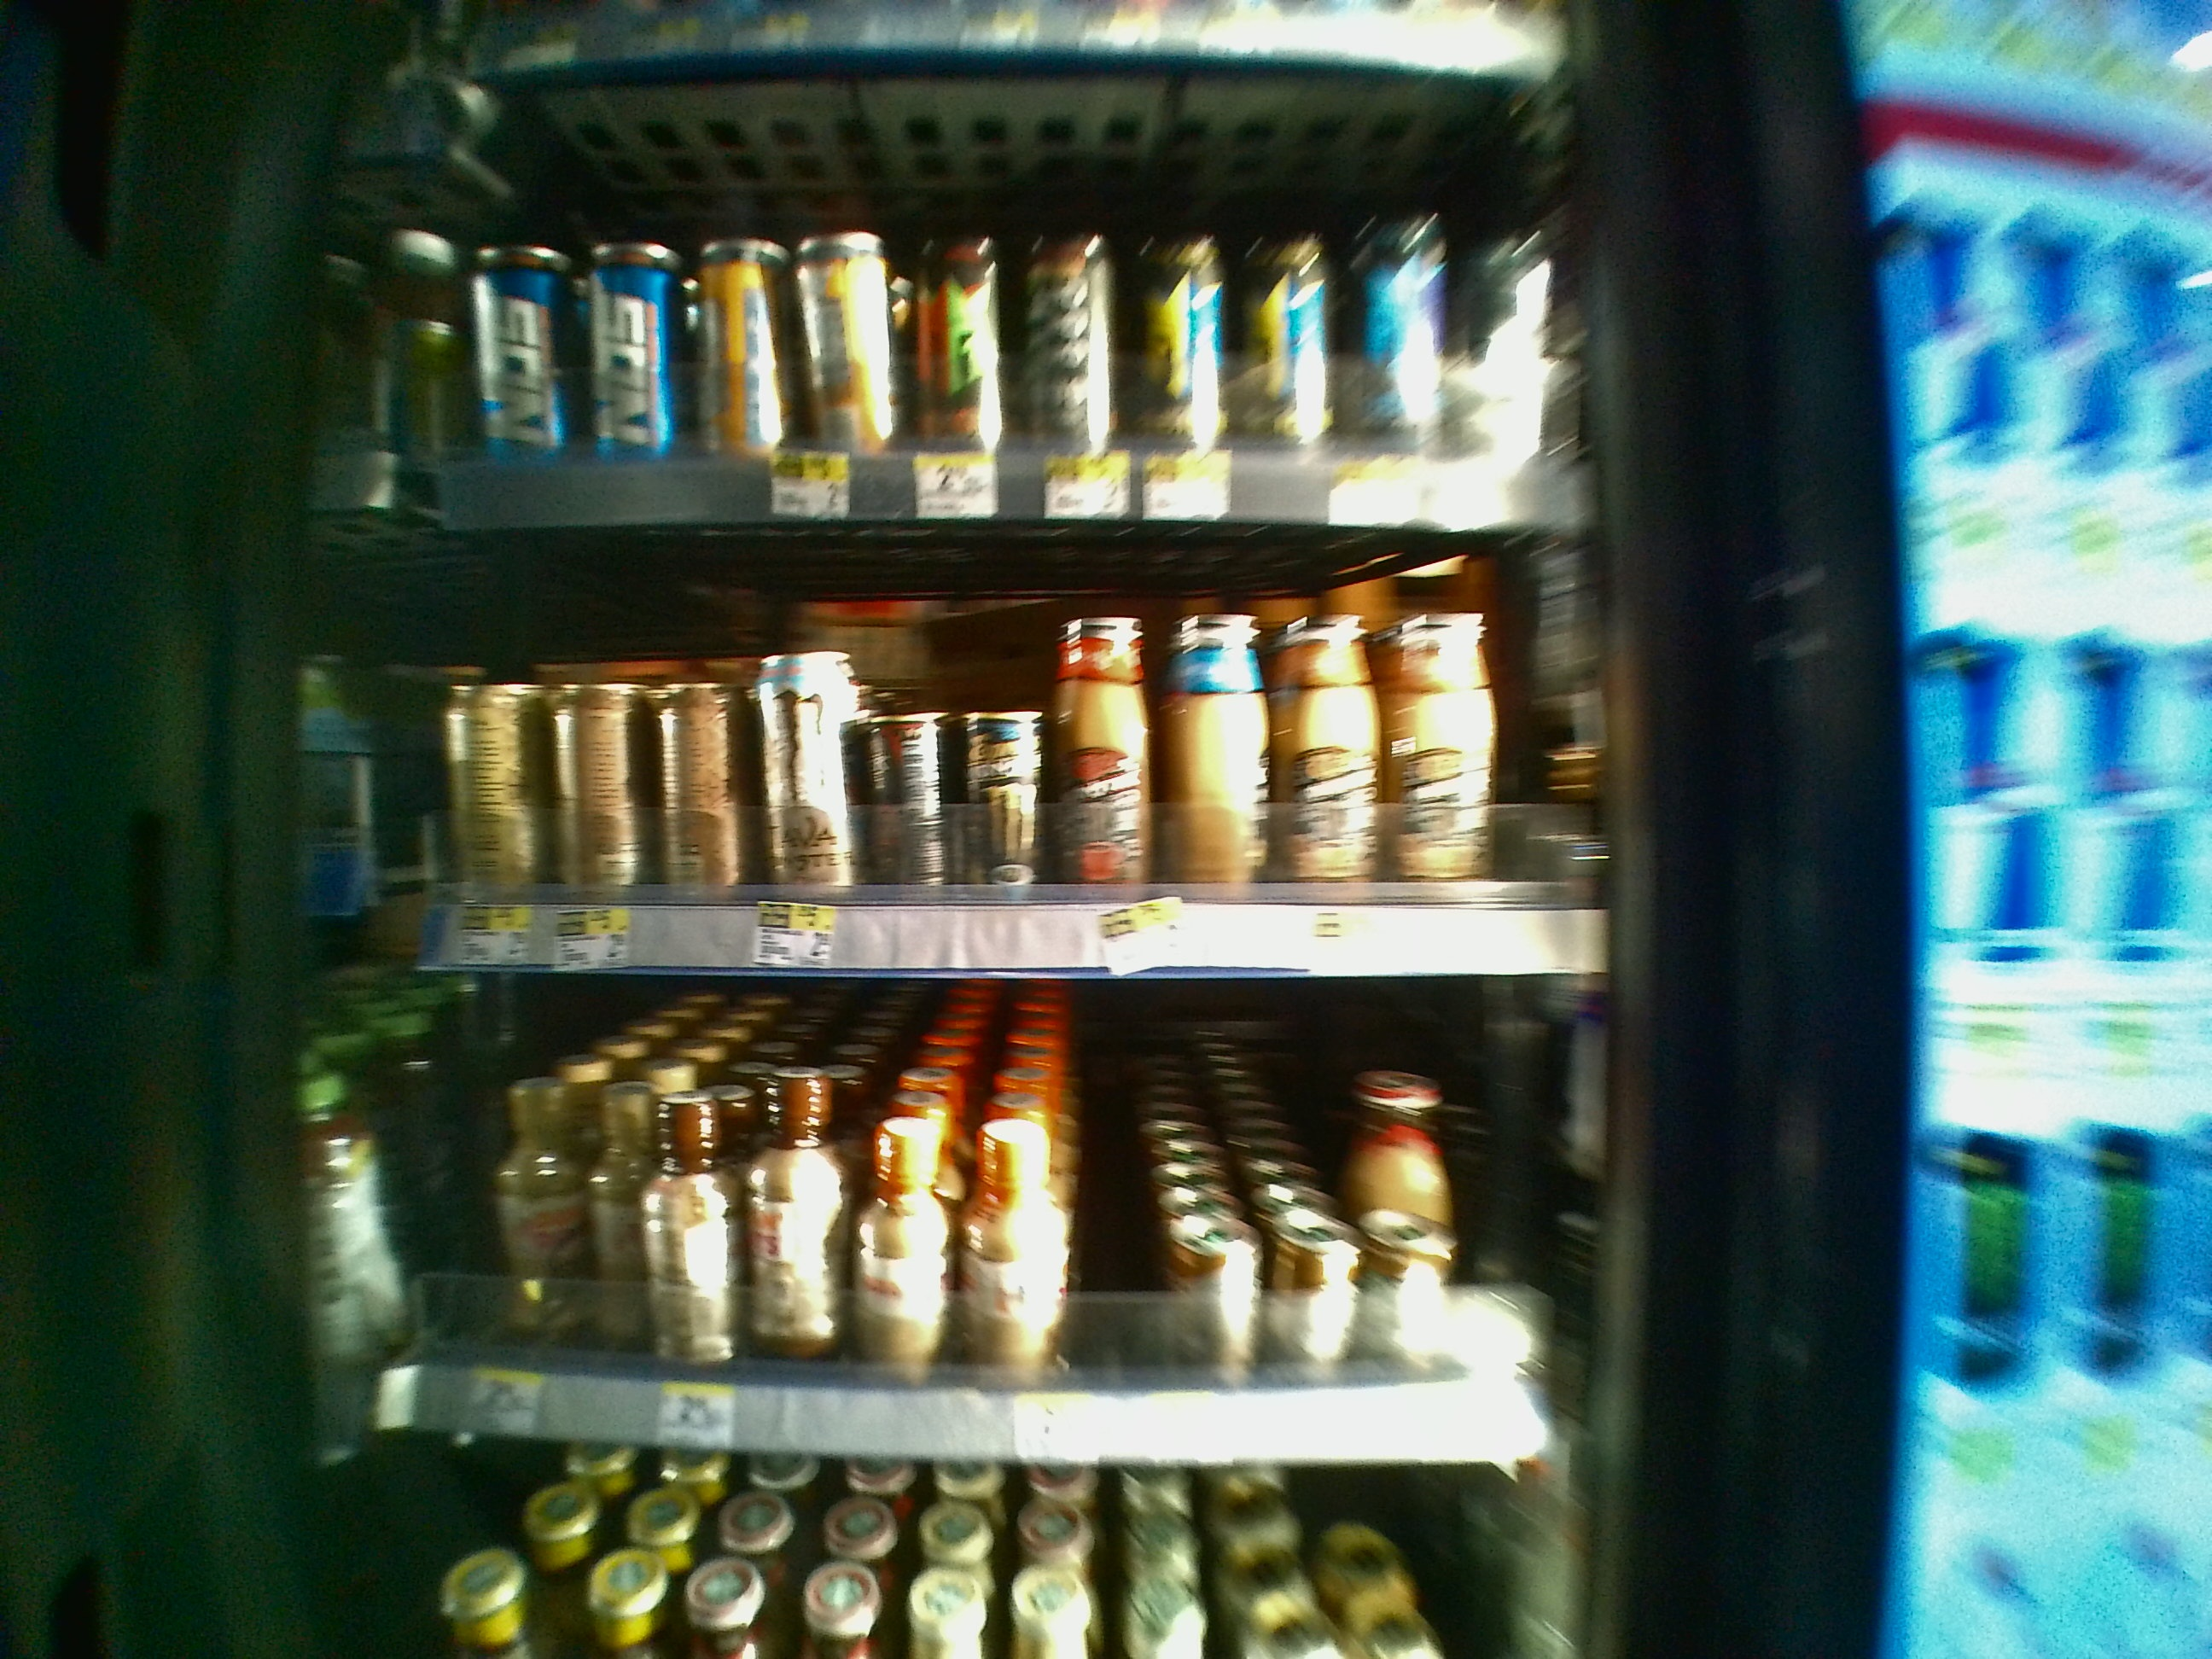shelf: (312, 979, 1623, 1466), (312, 533, 1616, 974)
